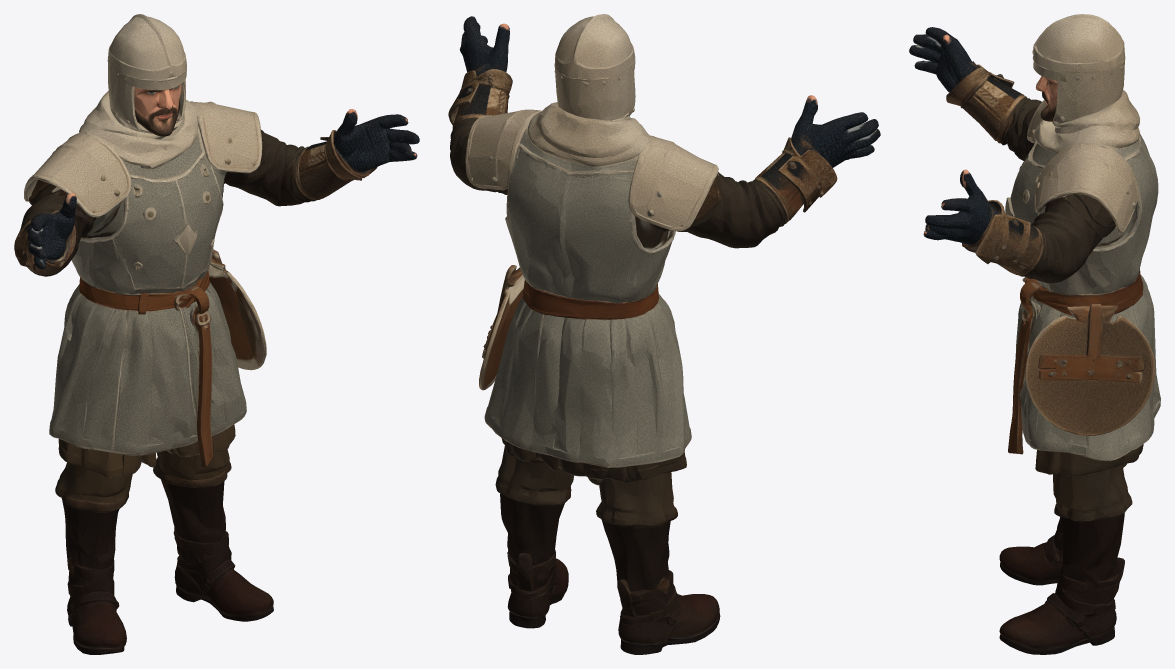
Rendered from gambeson.glb.
3 renders of one model, left to right at view 1: azimuth 30°, elevation 25°; view 2: azimuth 150°, elevation 25°; view 3: azimuth 270°, elevation 25°, orthographic. The views are drawn at different scales.
Bounding box in the file's own units: 1.3 × 1.9 × 0.7272.
Materials: 1 (1 with a texture image).
